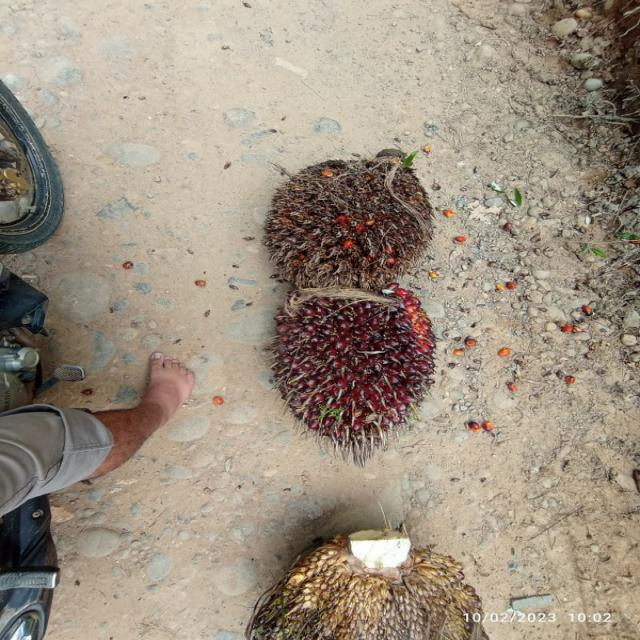fraksi 1: (244, 271, 472, 474)
fraksi 4: (250, 107, 473, 290)
